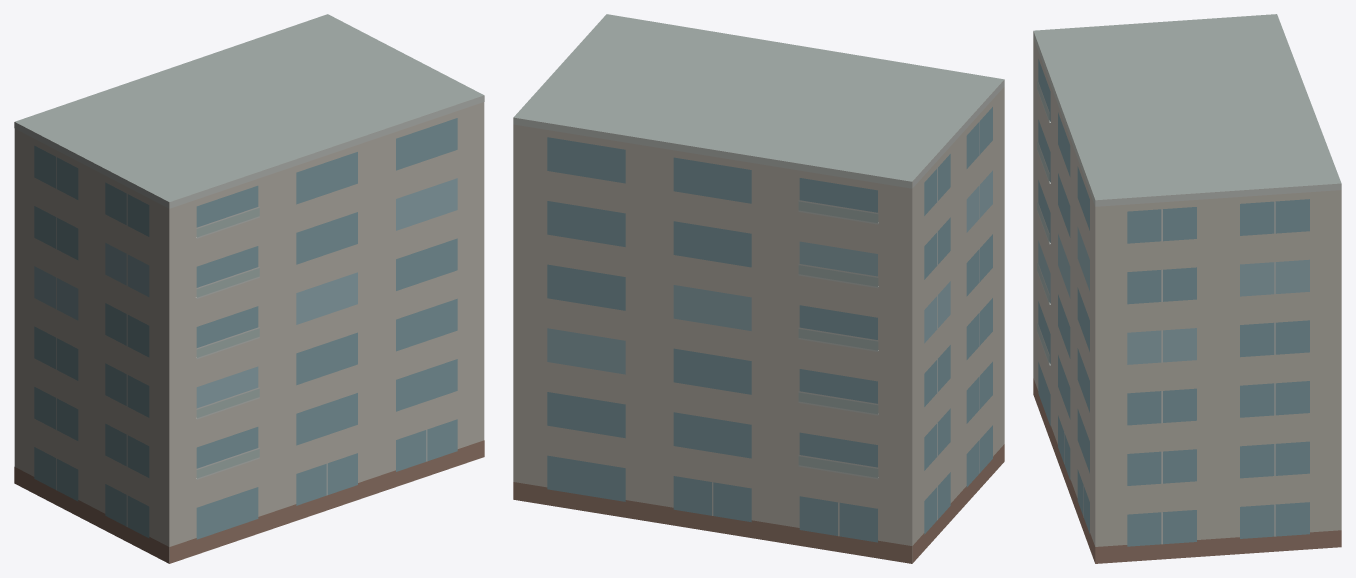
Rendered from survey-upis-32882724.glb.
3 views of the same model, side by side, from view 1: azimuth 30°, elevation 25°; view 2: azimuth 150°, elevation 25°; view 3: azimuth 270°, elevation 25° (orthographic). The views are drawn at different scales.
Visible parts, largest first — view 1: survey-upis-32882724.tmp; view 2: survey-upis-32882724.tmp; view 3: survey-upis-32882724.tmp.
Part boxes in pixels (box(x1,y1,x2,y2)): survey-upis-32882724.tmp: box(14, 14, 484, 563); survey-upis-32882724.tmp: box(513, 14, 1004, 563); survey-upis-32882724.tmp: box(1033, 14, 1341, 563).
Bounding box in the file's own units: 14.84 × 13.5 × 10.38.
